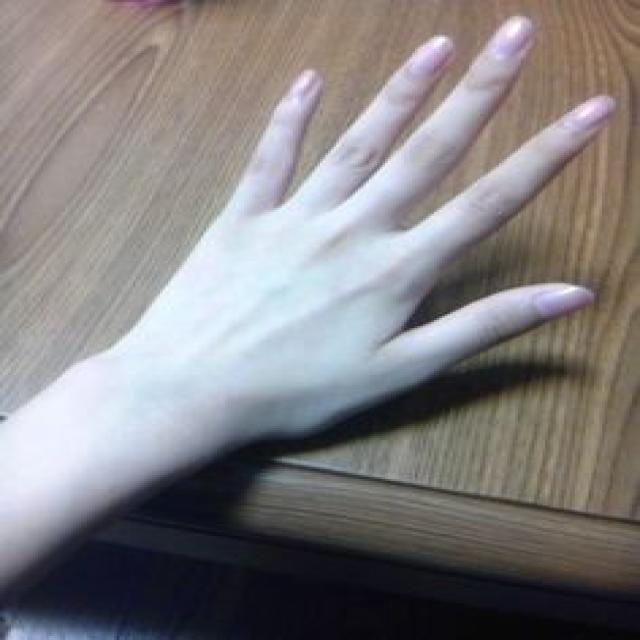no-gloves: (140, 14, 620, 435)
